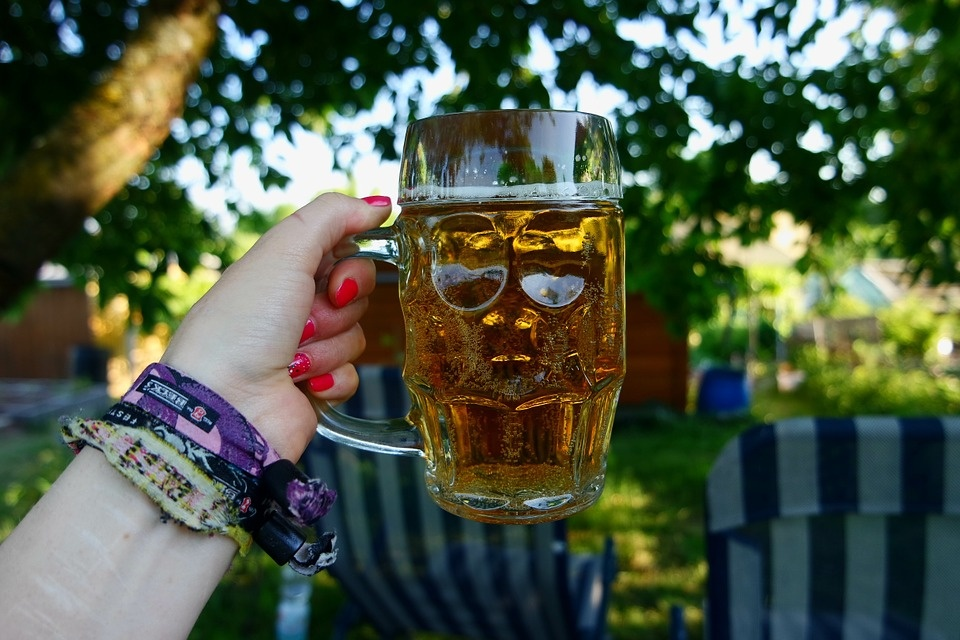glassBeer: (398, 108, 633, 522)
